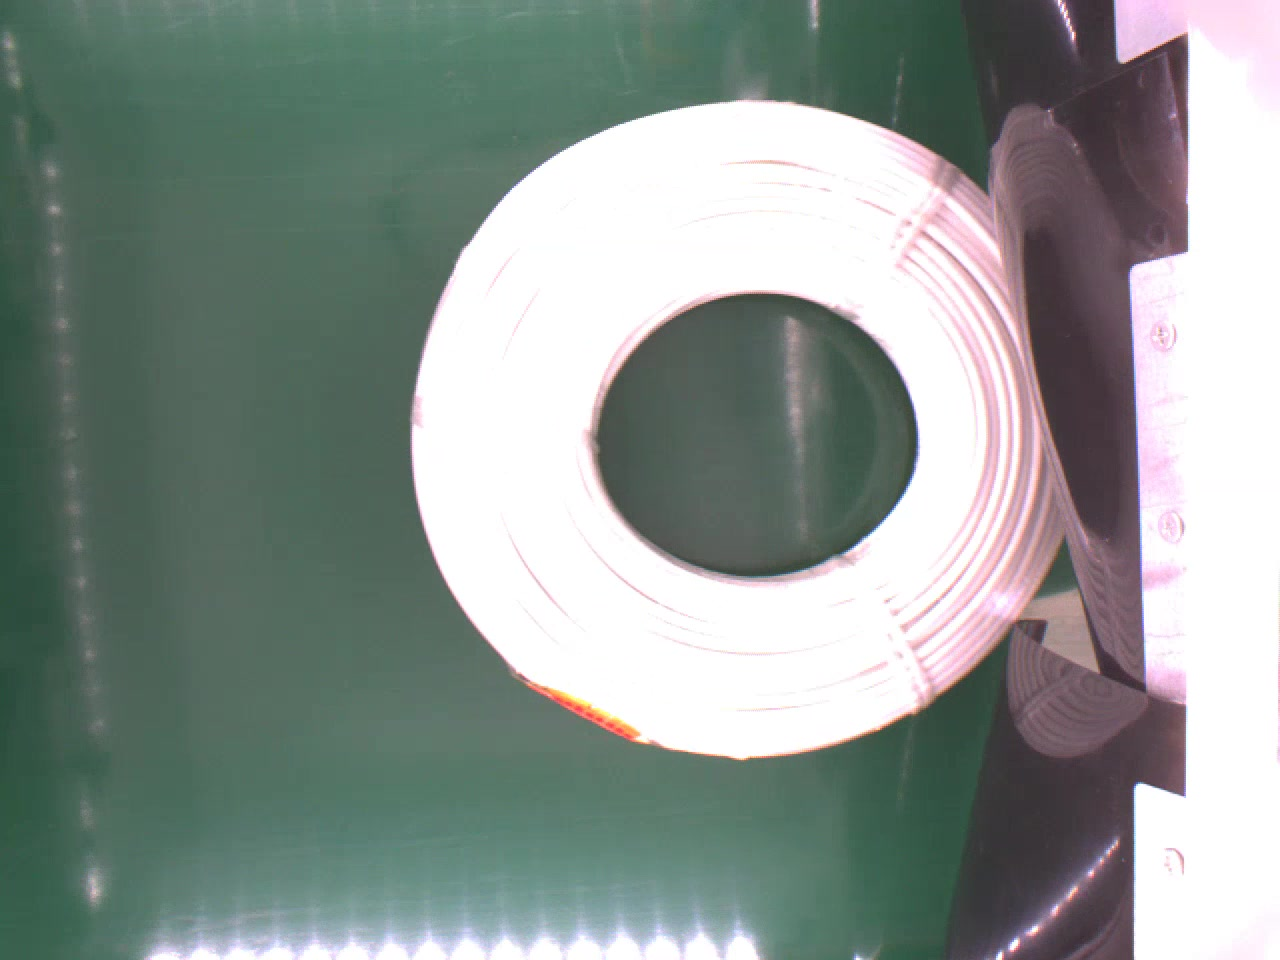white: (404, 97, 1073, 769)
